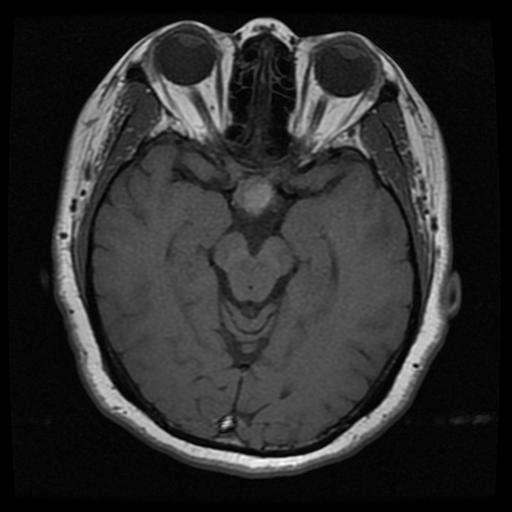Tumour-Pituitary: (235, 176, 277, 215)
